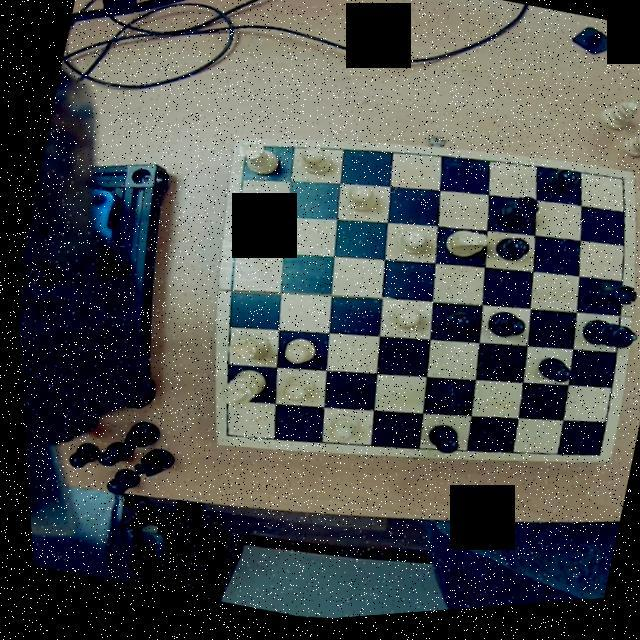chess-table-corners: (230, 138, 262, 170), (206, 420, 237, 451), (573, 449, 607, 476), (605, 178, 634, 206)
